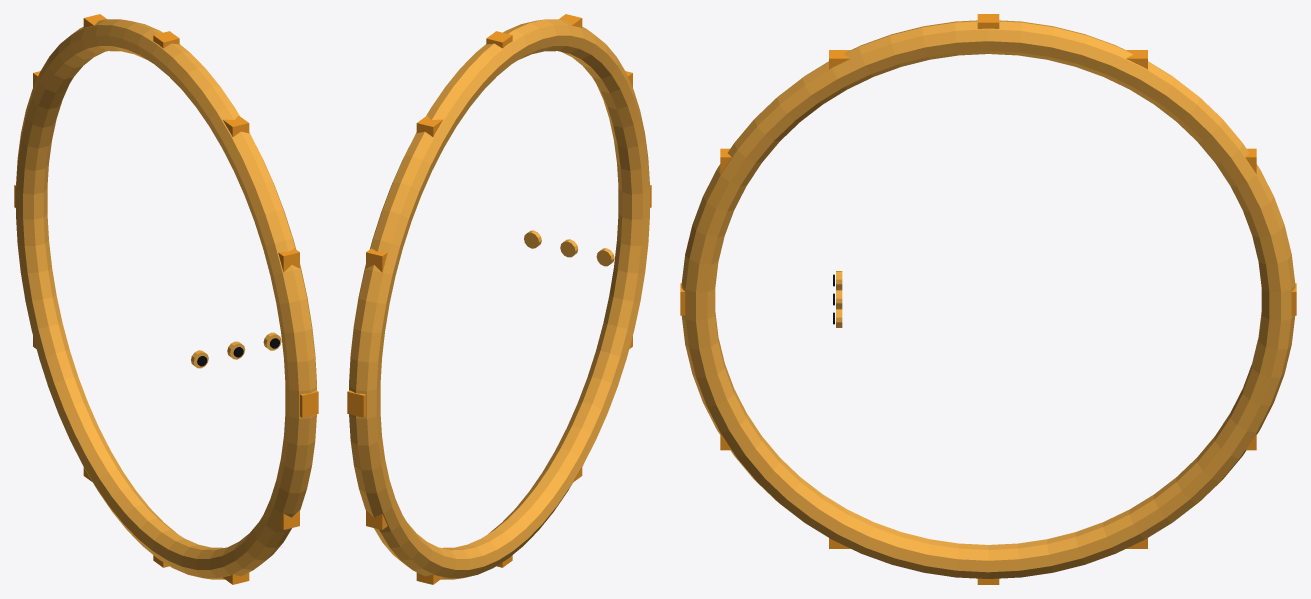
The model's file is 13_L90_OrbitalLightingArc.fbx.
The picture shows the model from 3 angles, left to right: view 1: azimuth 30°, elevation 25°; view 2: azimuth 150°, elevation 25°; view 3: azimuth 270°, elevation 25°; orthographic projection. The views are drawn at different scales.
Visible parts, largest first — view 1: L90_OrbitalLightingArc_Part_0000, L90_OrbitalLightingArc; view 2: L90_OrbitalLightingArc_Part_0000, L90_OrbitalLightingArc; view 3: L90_OrbitalLightingArc_Part_0000, L90_OrbitalLightingArc.
Boxes of the visible parts, bbox=[...] form: L90_OrbitalLightingArc_Part_0000: bbox=[16, 19, 316, 579]; L90_OrbitalLightingArc: bbox=[14, 14, 318, 584]; L90_OrbitalLightingArc_Part_0000: bbox=[349, 19, 649, 579]; L90_OrbitalLightingArc: bbox=[347, 14, 651, 584]; L90_OrbitalLightingArc_Part_0000: bbox=[681, 20, 1295, 578]; L90_OrbitalLightingArc: bbox=[680, 14, 1296, 584].
Size of the model in its own units: 75 by 428 by 425.
